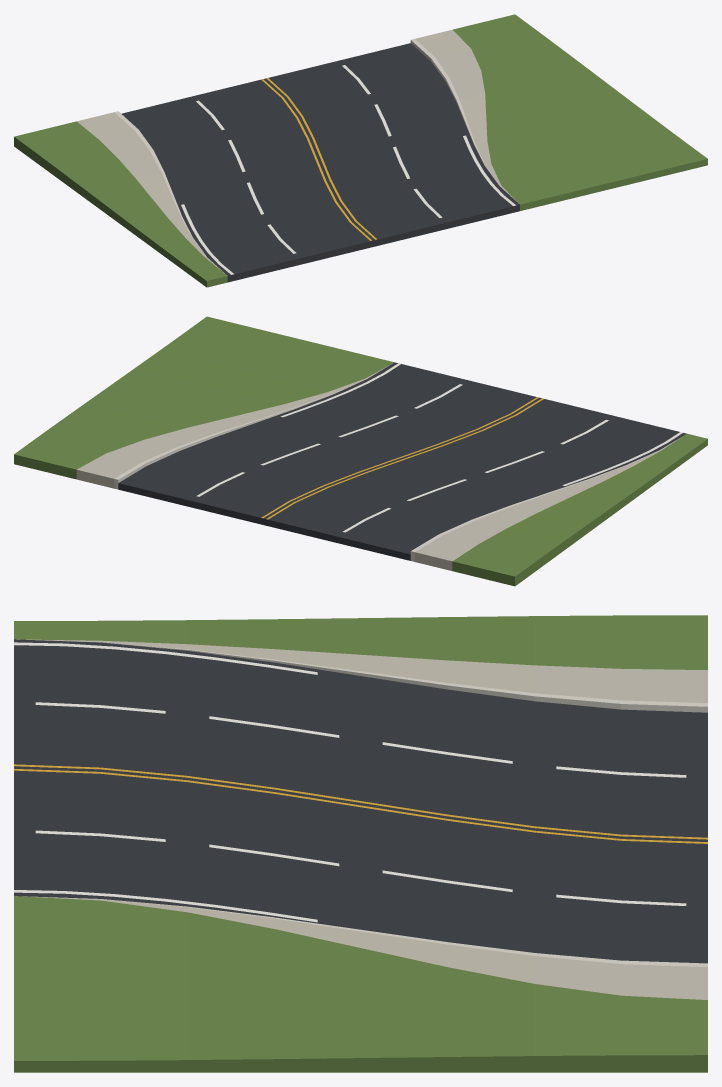
Rendered from Transition_Sidewalk_To_NoSidewalk_4Lane_16m.glb.
The picture shows the model from 3 angles, top to bottom: view 1: azimuth 30°, elevation 25°; view 2: azimuth 150°, elevation 25°; view 3: azimuth 270°, elevation 25°; orthographic projection. The views are drawn at different scales.
Parts seen in each view (by area): view 1: Transition_Sidewalk_To_NoSidewalk_4Lane_16m_Asphalt, Transition_Sidewalk_To_NoSidewalk_4Lane_16m_Grass-edge, Transition_Sidewalk_To_NoSidewalk_4Lane_16m_Sidewalk, Transition_Sidewalk_To_NoSidewalk_4Lane_16m_PaintWhite, Transition_Sidewalk_To_NoSidewalk_4Lane_16m_Curb, Transition_Sidewalk_To_NoSidewalk_4Lane_16m_PaintYellow; view 2: Transition_Sidewalk_To_NoSidewalk_4Lane_16m_Asphalt, Transition_Sidewalk_To_NoSidewalk_4Lane_16m_Grass-edge, Transition_Sidewalk_To_NoSidewalk_4Lane_16m_Sidewalk, Transition_Sidewalk_To_NoSidewalk_4Lane_16m_PaintWhite, Transition_Sidewalk_To_NoSidewalk_4Lane_16m_Curb, Transition_Sidewalk_To_NoSidewalk_4Lane_16m_PaintYellow; view 3: Transition_Sidewalk_To_NoSidewalk_4Lane_16m_Asphalt, Transition_Sidewalk_To_NoSidewalk_4Lane_16m_Grass-edge, Transition_Sidewalk_To_NoSidewalk_4Lane_16m_Sidewalk, Transition_Sidewalk_To_NoSidewalk_4Lane_16m_PaintWhite, Transition_Sidewalk_To_NoSidewalk_4Lane_16m_Curb, Transition_Sidewalk_To_NoSidewalk_4Lane_16m_PaintYellow.
Part boxes in pixels (x1,y1,x2,y2): Transition_Sidewalk_To_NoSidewalk_4Lane_16m_Asphalt: (121, 43, 519, 282); Transition_Sidewalk_To_NoSidewalk_4Lane_16m_Grass-edge: (14, 14, 707, 287); Transition_Sidewalk_To_NoSidewalk_4Lane_16m_Sidewalk: (77, 29, 518, 273); Transition_Sidewalk_To_NoSidewalk_4Lane_16m_PaintWhite: (181, 65, 515, 274); Transition_Sidewalk_To_NoSidewalk_4Lane_16m_Curb: (114, 39, 515, 268); Transition_Sidewalk_To_NoSidewalk_4Lane_16m_PaintYellow: (261, 78, 376, 240); Transition_Sidewalk_To_NoSidewalk_4Lane_16m_Asphalt: (118, 362, 686, 560); Transition_Sidewalk_To_NoSidewalk_4Lane_16m_Grass-edge: (14, 316, 707, 586); Transition_Sidewalk_To_NoSidewalk_4Lane_16m_Sidewalk: (76, 363, 684, 570); Transition_Sidewalk_To_NoSidewalk_4Lane_16m_PaintWhite: (196, 363, 682, 532); Transition_Sidewalk_To_NoSidewalk_4Lane_16m_Curb: (114, 367, 664, 561); Transition_Sidewalk_To_NoSidewalk_4Lane_16m_PaintYellow: (261, 397, 543, 519); Transition_Sidewalk_To_NoSidewalk_4Lane_16m_Asphalt: (14, 639, 707, 963); Transition_Sidewalk_To_NoSidewalk_4Lane_16m_Grass-edge: (14, 615, 707, 1072); Transition_Sidewalk_To_NoSidewalk_4Lane_16m_Sidewalk: (16, 639, 707, 999); Transition_Sidewalk_To_NoSidewalk_4Lane_16m_PaintWhite: (14, 642, 686, 922); Transition_Sidewalk_To_NoSidewalk_4Lane_16m_Curb: (16, 639, 707, 966); Transition_Sidewalk_To_NoSidewalk_4Lane_16m_PaintYellow: (14, 764, 707, 843).
Size of the model in its own units: 24 by 0.45 by 16.
